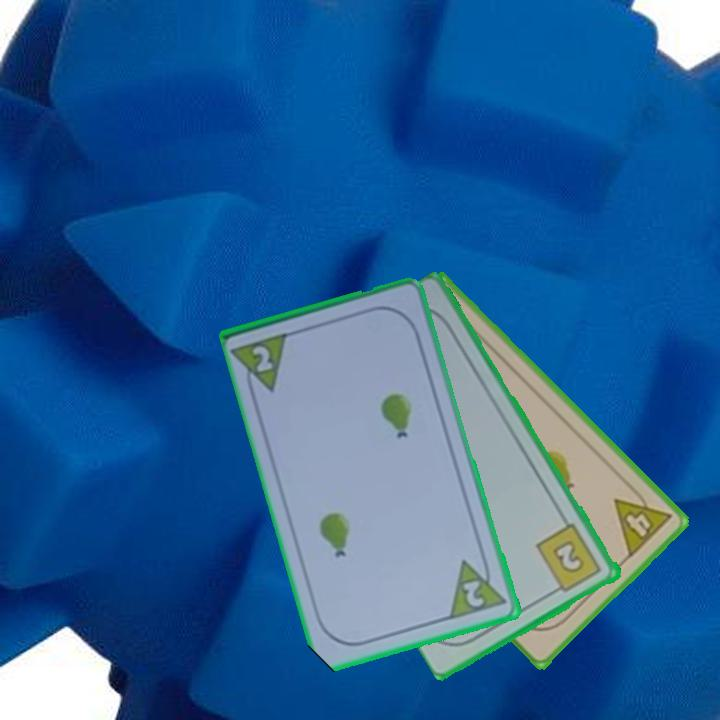2b: (533, 520, 605, 597)
2p: (459, 577, 488, 611), (248, 342, 277, 376)
4p: (610, 480, 675, 561)
